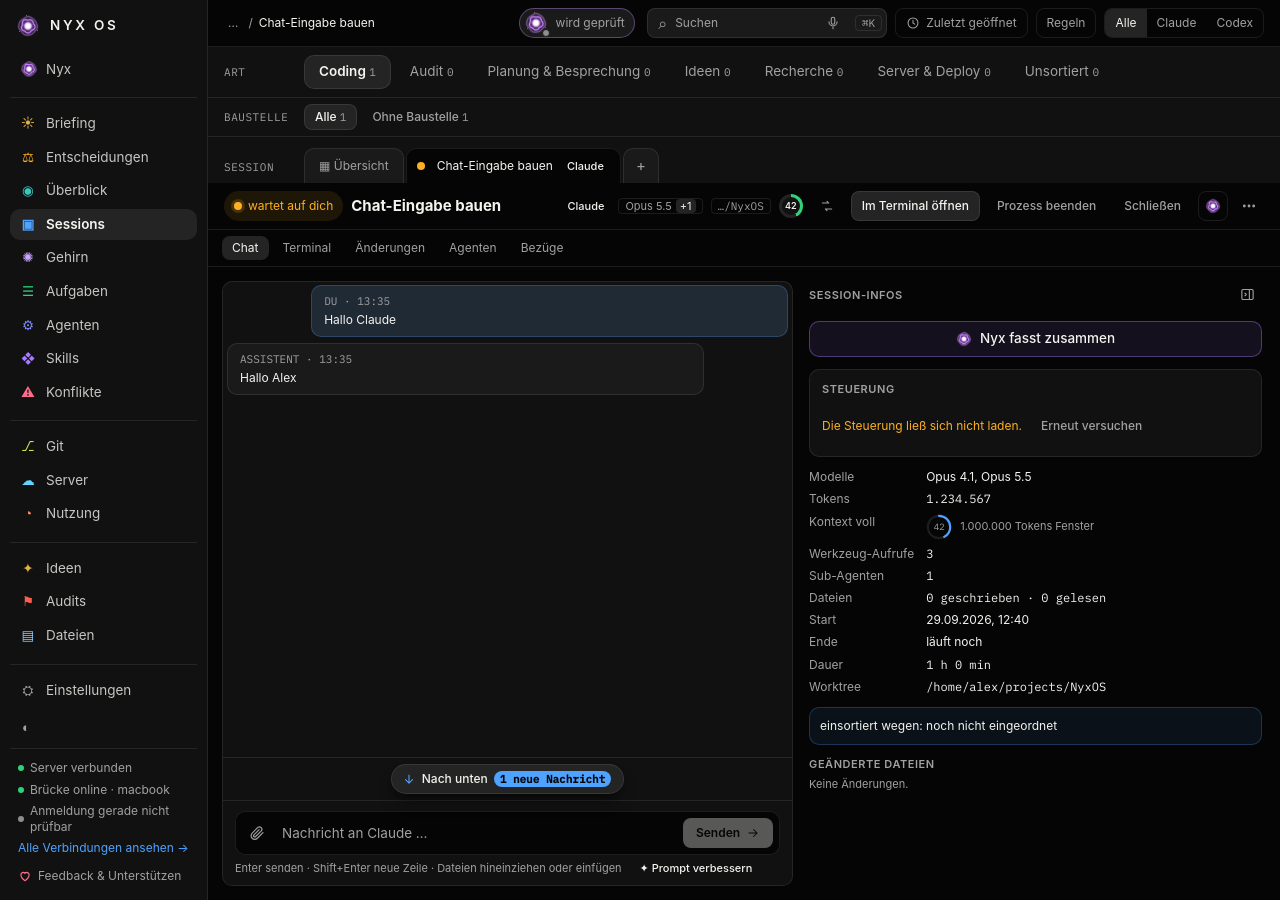
Test: Grenzfälle der Chat-Eingabe › Brücke antwortet zu spät: Blase „unklar“, Text kommt NICHT zurück ins Feld (kein Doppelt-Senden)
In the text box labelled "Nachricht an Claude": (477, 833) [278, 818, 677, 848], type "Nur einmal bitte"
Then press Enter
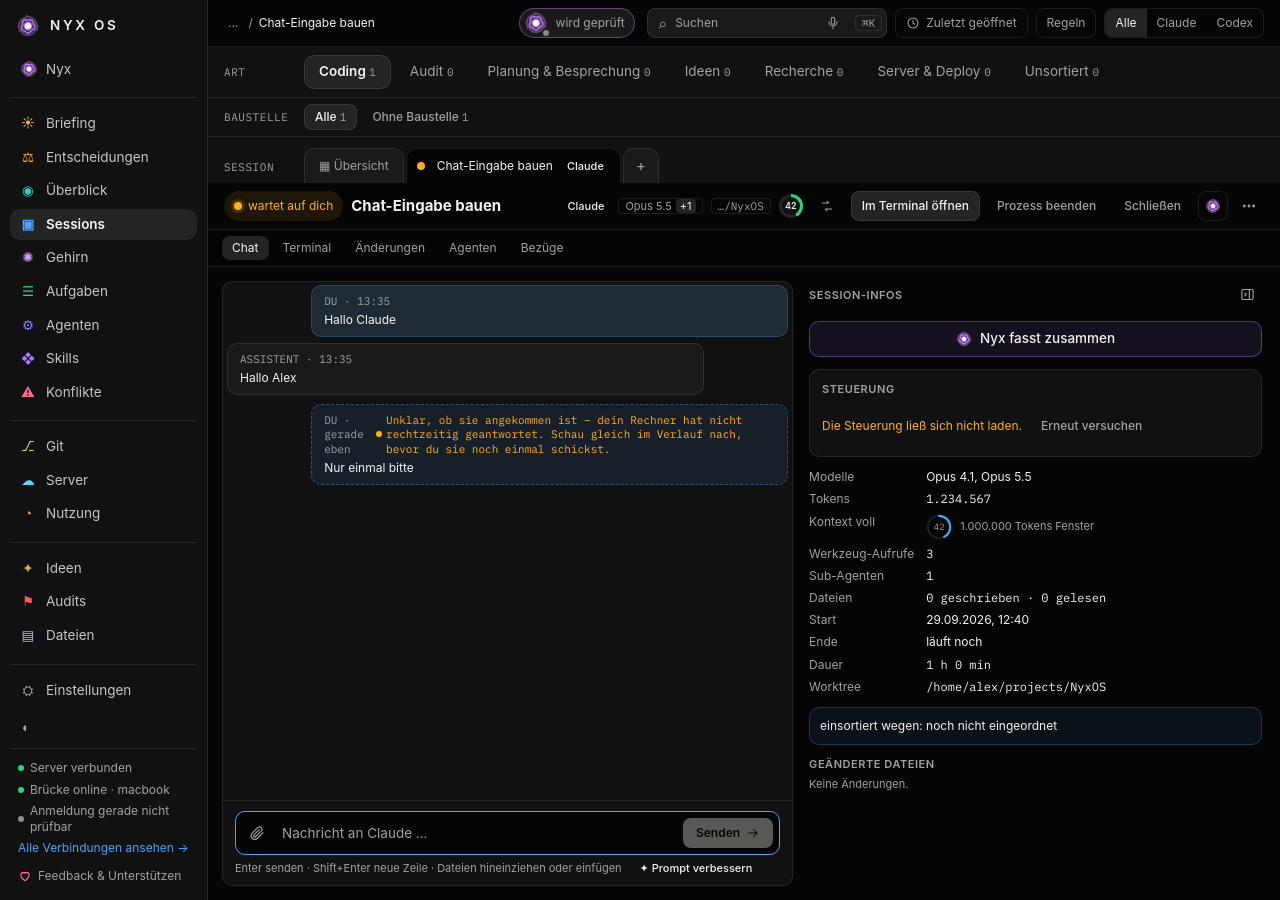
Expected: the element with test id "chat-pending" shows "Unklar, ob sie angekommen ist", [386, 413, 742, 456]
